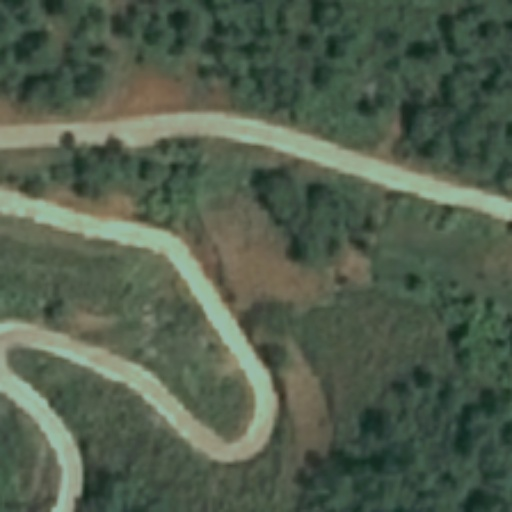landslide: (208, 196, 321, 305), (110, 62, 190, 114), (45, 191, 140, 221)
